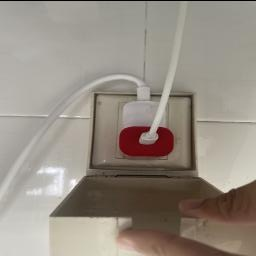outlet: (71, 81, 203, 172)
